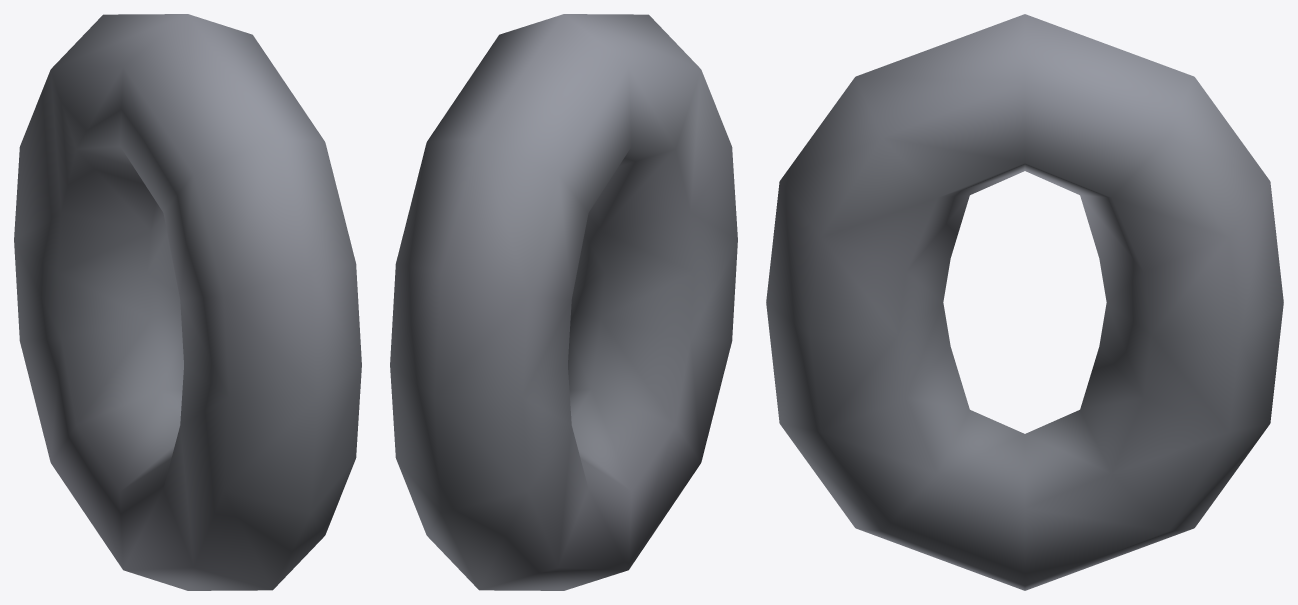
File: Chain_1.fbx
3 views of the same model, side by side, from view 1: azimuth 30°, elevation 25°; view 2: azimuth 150°, elevation 25°; view 3: azimuth 270°, elevation 25° (orthographic).
Visible parts, largest first — view 1: Chein_1; view 2: Chein_1; view 3: Chein_1.
Part boxes in pixels (x1,y1,x2,y2): Chein_1: (14, 14, 361, 590); Chein_1: (390, 14, 737, 590); Chein_1: (766, 14, 1283, 590).
Bounding box in the file's own units: 0.0643 × 0.2605 × 0.2118.
